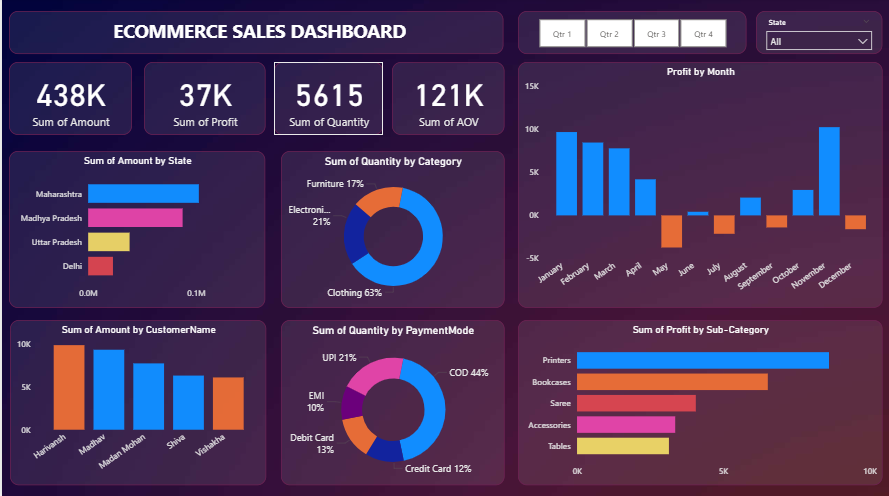

What the dashboard file says about the page in this screenshot:
{"tool":"powerbi","page":{"name":"Page 1","canvas":[1280,720],"ordinal":0},"visuals":[{"type":"textbox","box":[10.8,18.5,712.3,61.5],"z":0},{"type":"columnChart","title":" Profit by Month","fields":{"Y":["Sum(Details.Profit)"],"Category":["Orders.Order Date.Variation.Date Hierarchy.Month"]},"box":[743.1,92.3,524.6,353.8],"z":1000},{"type":"barChart","fields":{"Category":["Details.Sub-Category"],"Y":["Sum(Details.Profit)"]},"box":[743.1,463.1,524.6,238.5],"z":2000},{"type":"donutChart","fields":{"Category":["Details.Category"],"Y":["Sum(Details.Quantity)"]},"box":[401.5,220,321.5,226.2],"z":3000},{"type":"donutChart","fields":{"Y":["Sum(Details.Quantity)"],"Series":["Details.PaymentMode"]},"box":[401.5,463.1,321.5,238.5],"z":4000},{"type":"card","fields":{"Values":["Sum(Details.Quantity)"]},"box":[392.3,92.3,156.9,104.6],"z":5000},{"type":"card","fields":{"Values":["Sum(Details.AOV)"]},"box":[561.5,92.3,161.5,104.6],"z":6000},{"type":"card","fields":{"Values":["Sum(Details.Profit)"]},"box":[204.6,92.3,175.4,104.6],"z":7000},{"type":"card","fields":{"Values":["Sum(Details.Amount)"]},"box":[10.8,92.3,176.9,104.6],"z":8000},{"type":"barChart","fields":{"Category":["Orders.State"],"Y":["Sum(Details.Amount)"]},"box":[10.8,220,369.2,226.2],"z":9000},{"type":"columnChart","fields":{"Category":["Orders.CustomerName"],"Y":["Sum(Details.Amount)"]},"box":[11,463,369,238],"z":10000},{"type":"slicer","fields":{"Values":["Orders.Order Date.Variation.Date Hierarchy.Quarter"]},"box":[743.1,18.5,329.2,61.5],"z":11000},{"type":"slicer","fields":{"Values":["Orders.State"]},"box":[1086.2,18.5,181.5,61.5],"z":12000}]}

Visuals, with their boxes in screenshot pixels (x1, y1, x2, y2), scaled from the page's 1280x720 canvas onto the 889x496 screenshot:
textbox: 8:13:502:55
" Profit by Month" columnChart: 516:64:880:307
barChart - Details.Sub-Category x Sum(Details.Profit): 516:319:880:483
donutChart - Details.Category x Sum(Details.Quantity): 279:152:502:307
donutChart - Sum(Details.Quantity) x Details.PaymentMode: 279:319:502:483
card - Sum(Details.Quantity): 272:64:381:136
card - Sum(Details.AOV): 390:64:502:136
card - Sum(Details.Profit): 142:64:264:136
card - Sum(Details.Amount): 8:64:130:136
barChart - Orders.State x Sum(Details.Amount): 8:152:264:307
columnChart - Orders.CustomerName x Sum(Details.Amount): 8:319:264:483
slicer - Orders.Order Date.Variation.Date Hierarchy.Quarter: 516:13:745:55
slicer - Orders.State: 754:13:880:55
